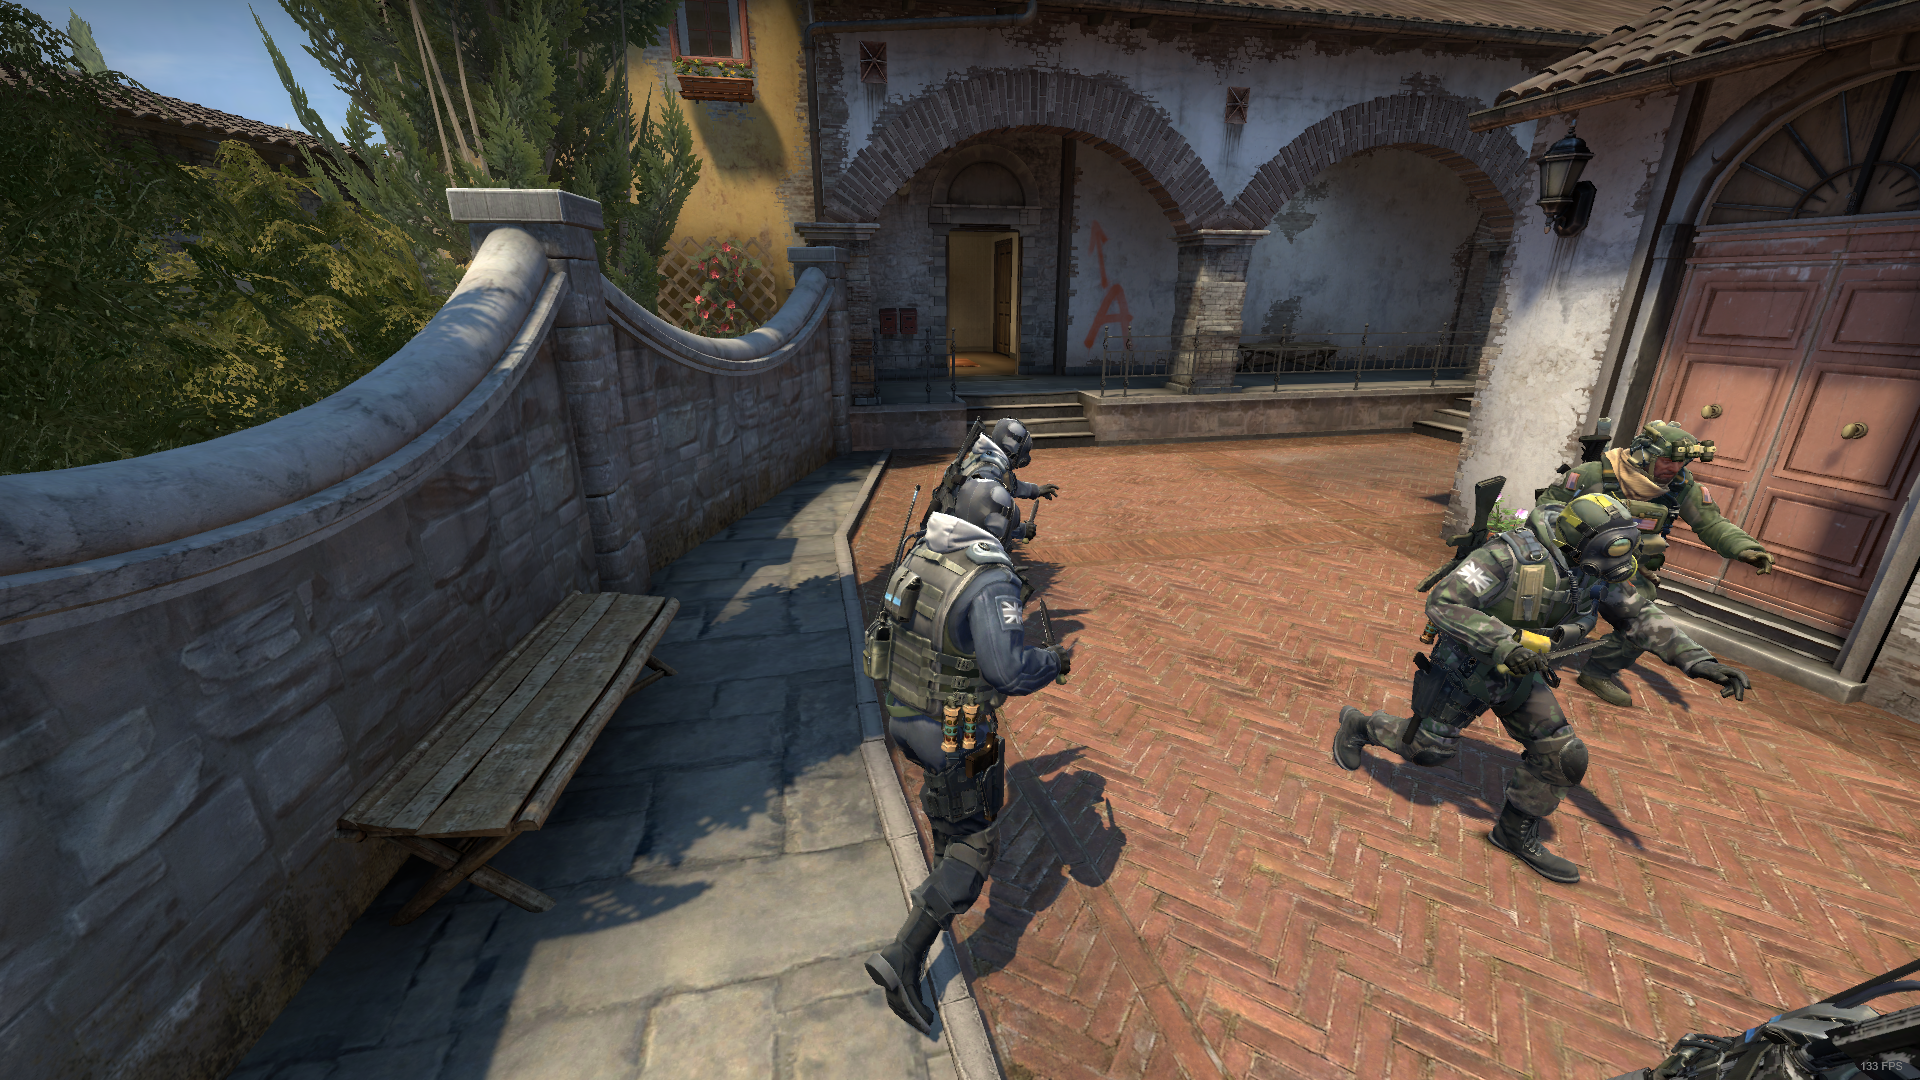ct: (818, 476, 1081, 1044), (934, 411, 1047, 545)
